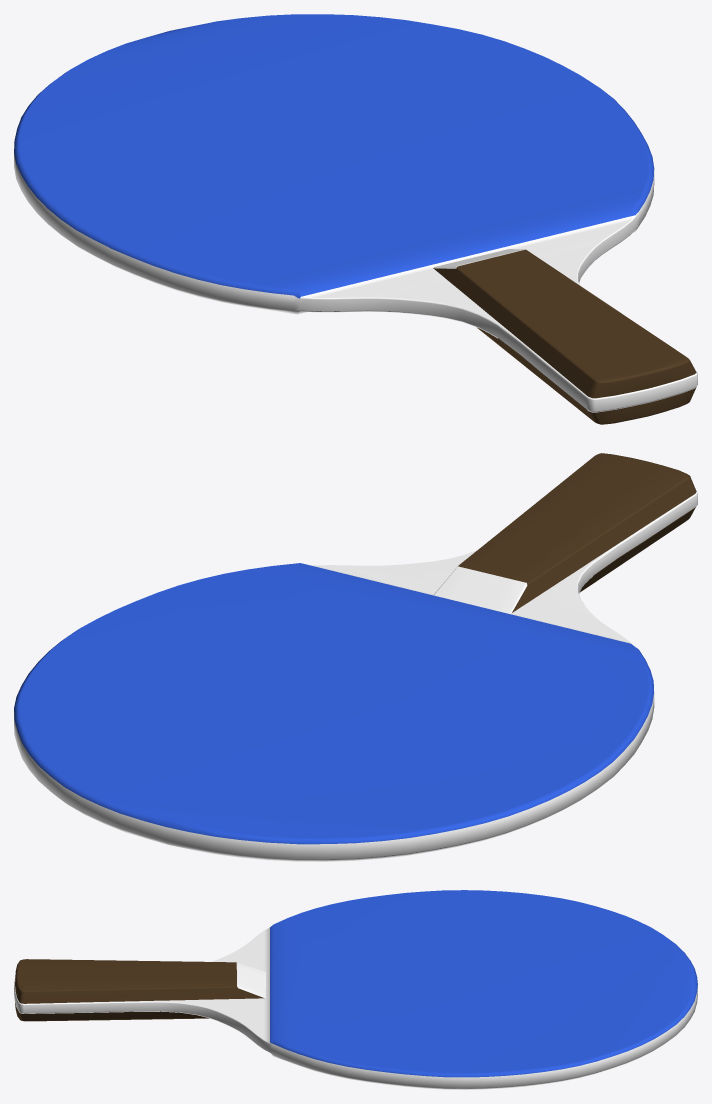
The picture shows the model from 3 angles, top to bottom: view 1: azimuth 30°, elevation 25°; view 2: azimuth 150°, elevation 25°; view 3: azimuth 270°, elevation 25°; orthographic projection. The views are drawn at different scales.
Parts seen in each view (by area): view 1: table_tennis.1_0; view 2: table_tennis.1_0; view 3: table_tennis.1_0.
Part boxes in pixels (left/top/right/bottom): table_tennis.1_0: left=14, top=14, right=697, bottom=424; table_tennis.1_0: left=14, top=453, right=697, bottom=861; table_tennis.1_0: left=14, top=890, right=697, bottom=1089.
Bounding box in the file's own units: 4.21 × 0.3374 × 6.54.
